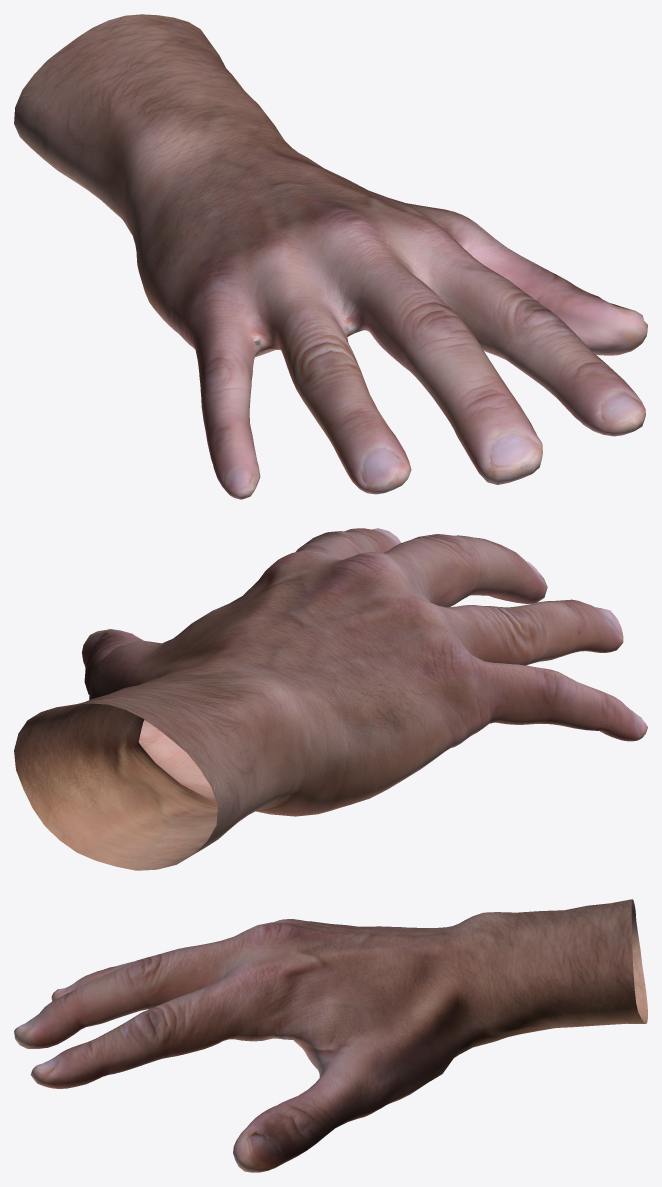
Rendered from PUEDESERLAMANOPAEPAAAAAA.fbx.
3 views of the same model, one above another, from view 1: azimuth 30°, elevation 25°; view 2: azimuth 150°, elevation 25°; view 3: azimuth 270°, elevation 25° (orthographic). The views are drawn at different scales.
Parts seen in each view (by area): view 1: Male_hand_40plus; view 2: Male_hand_40plus; view 3: Male_hand_40plus.
Boxes of the visible parts, left/top/right/bottom form: Male_hand_40plus: left=14, top=14, right=647, bottom=499; Male_hand_40plus: left=14, top=528, right=647, bottom=870; Male_hand_40plus: left=14, top=899, right=647, bottom=1172.
Bounding box in the file's own units: 613 × 273 × 916.
Materials: 1 (1 with a texture image).
